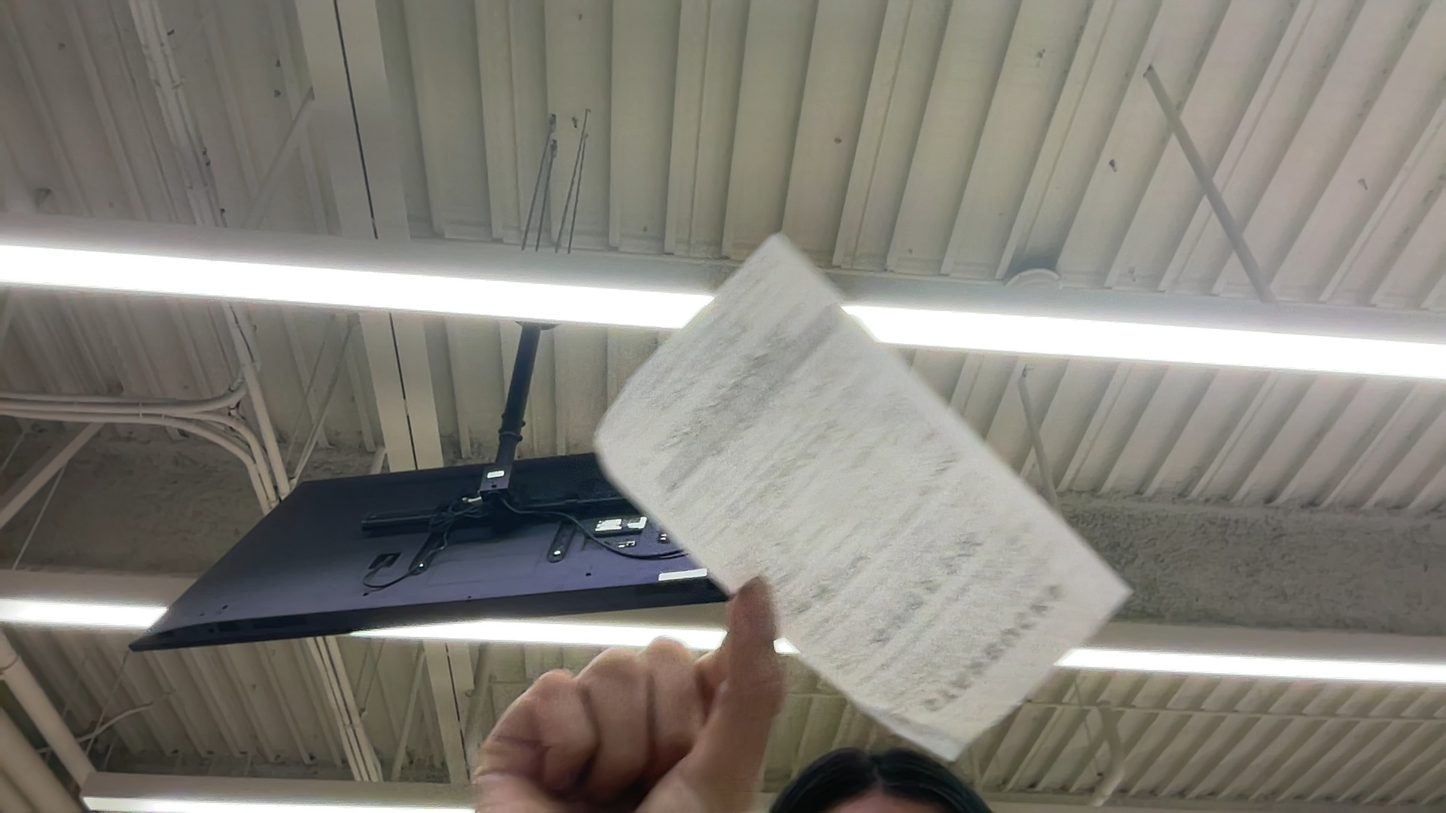Paper: (469, 627, 724, 808)
